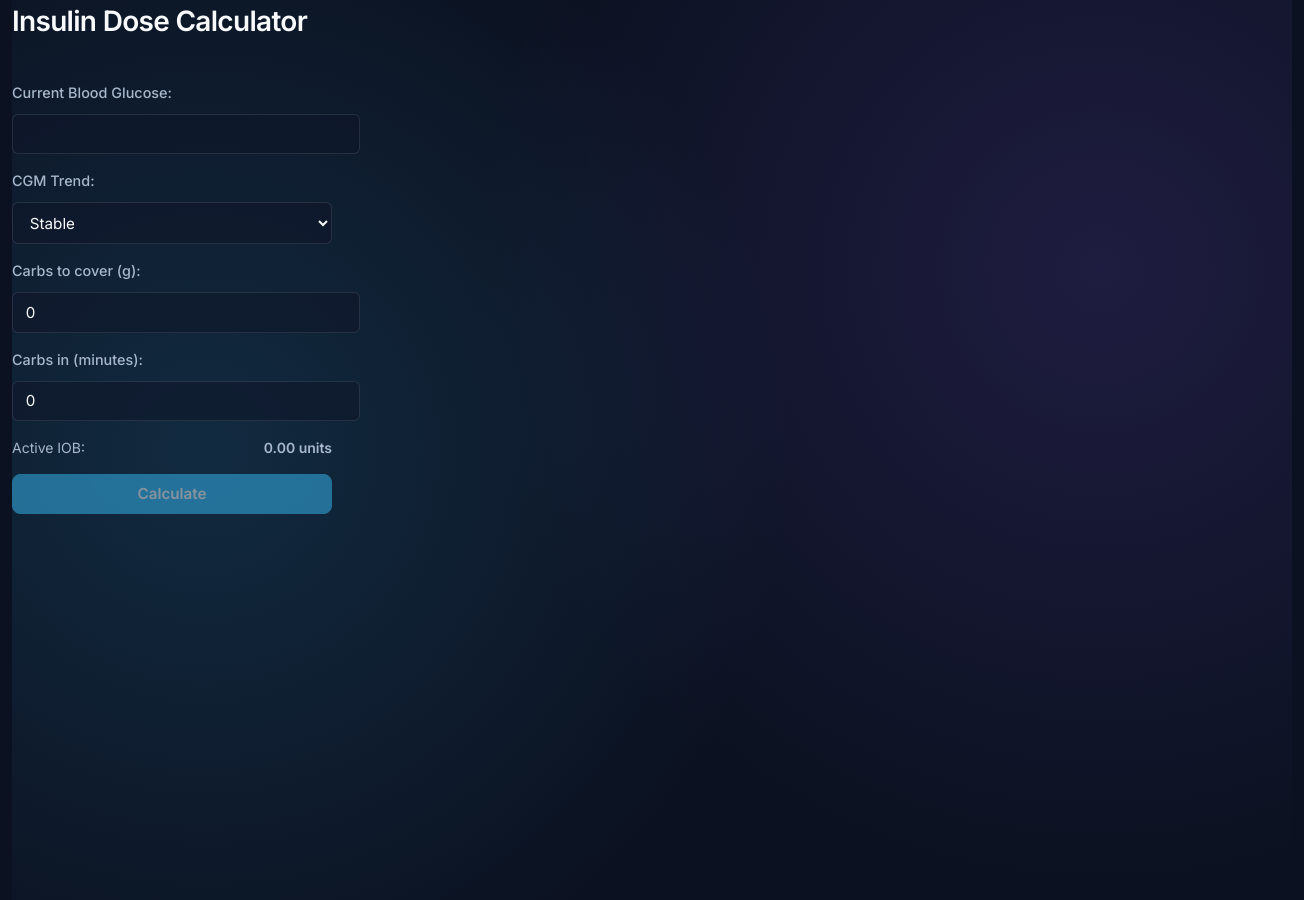
Scenario: DoseCalculator › translateWarning falls through unknown warning strings unchanged
Type "180" into the number field labelled "Current Blood Glucose:". click: (186, 134)
box: [12,114,360,154]
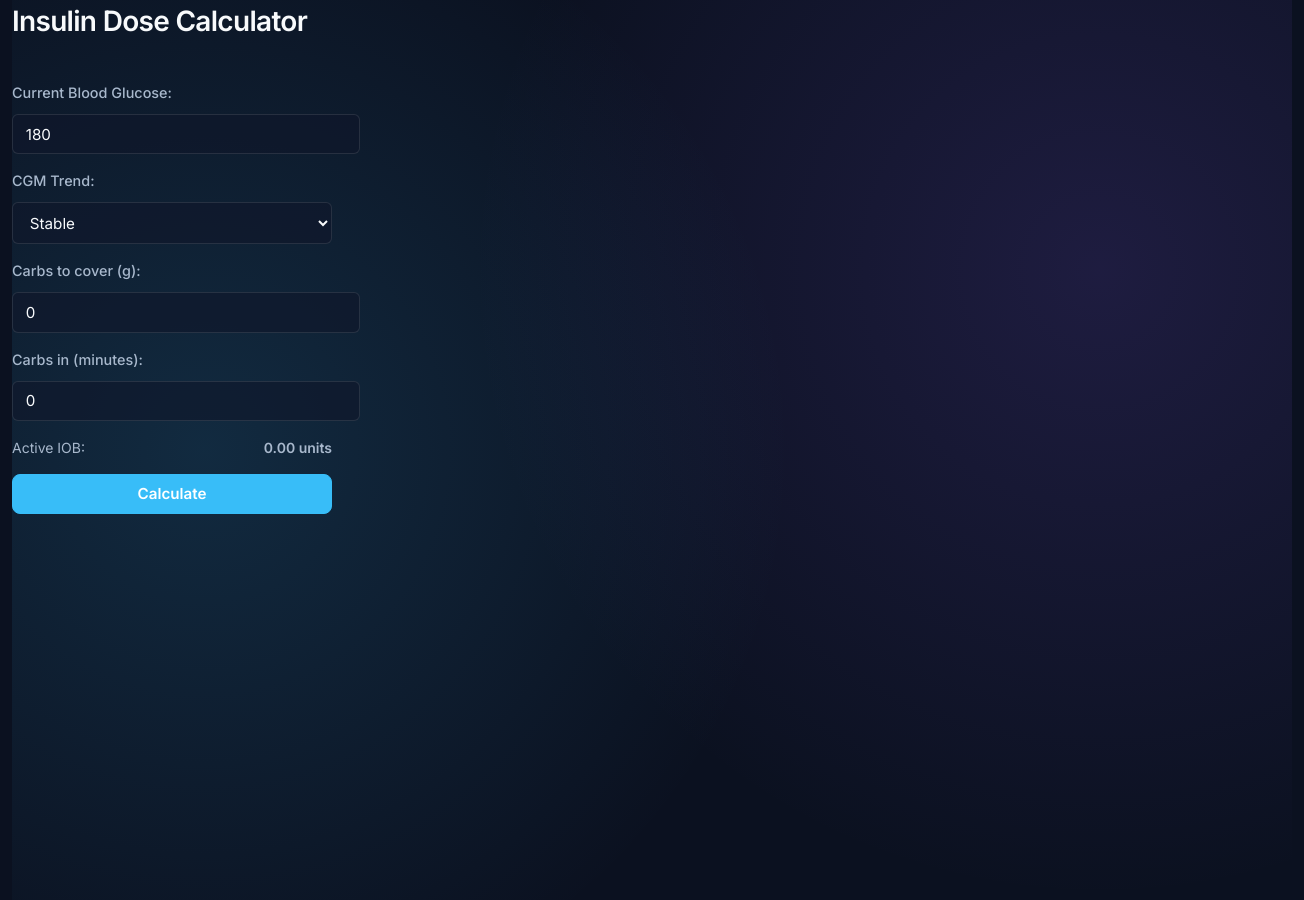
Click the button "Calculate". click: (172, 494)
box: [12,474,332,514]
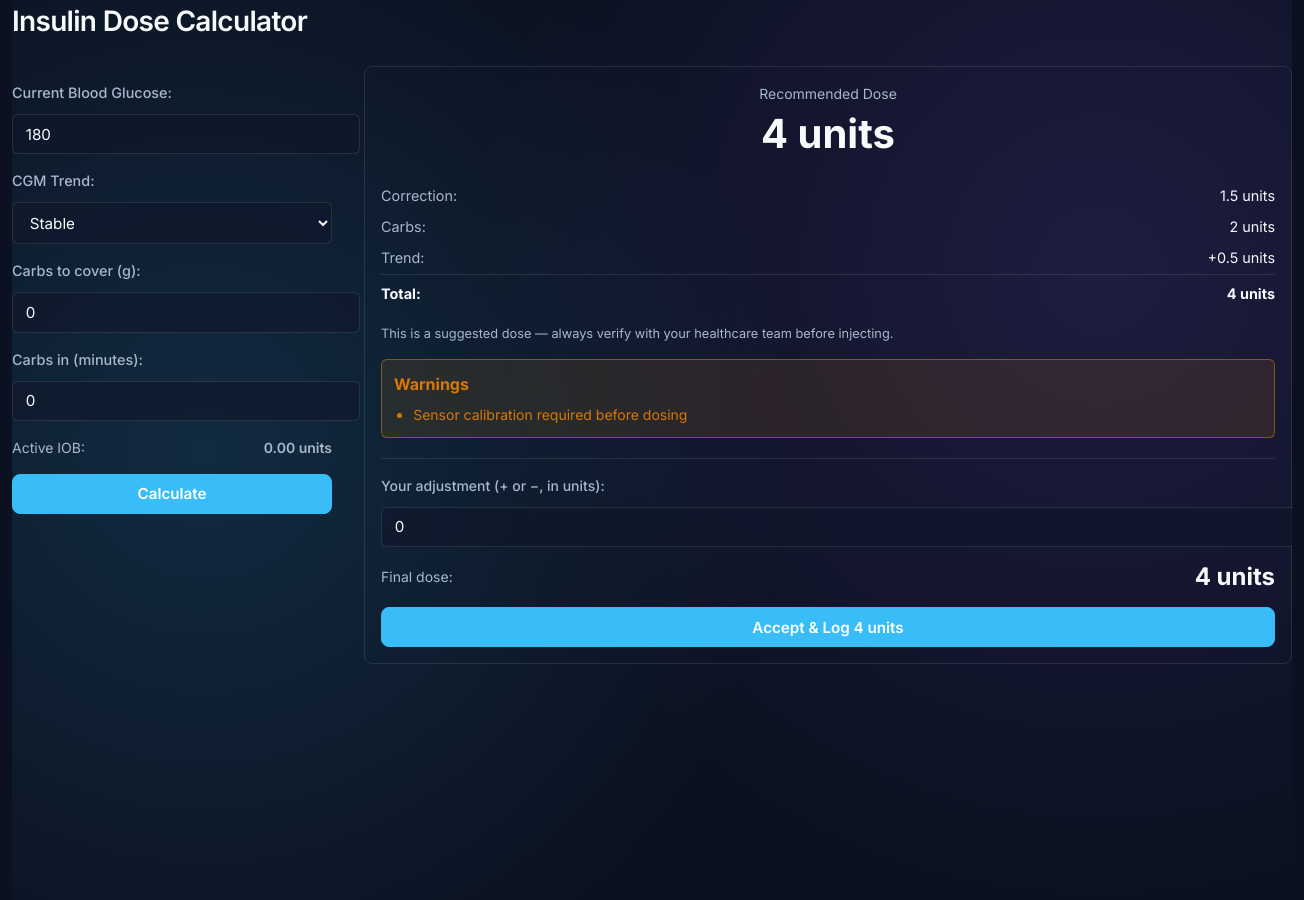
Expected: the list item "Sensor calibration required before dosing" is shown, [413,406,688,423]
